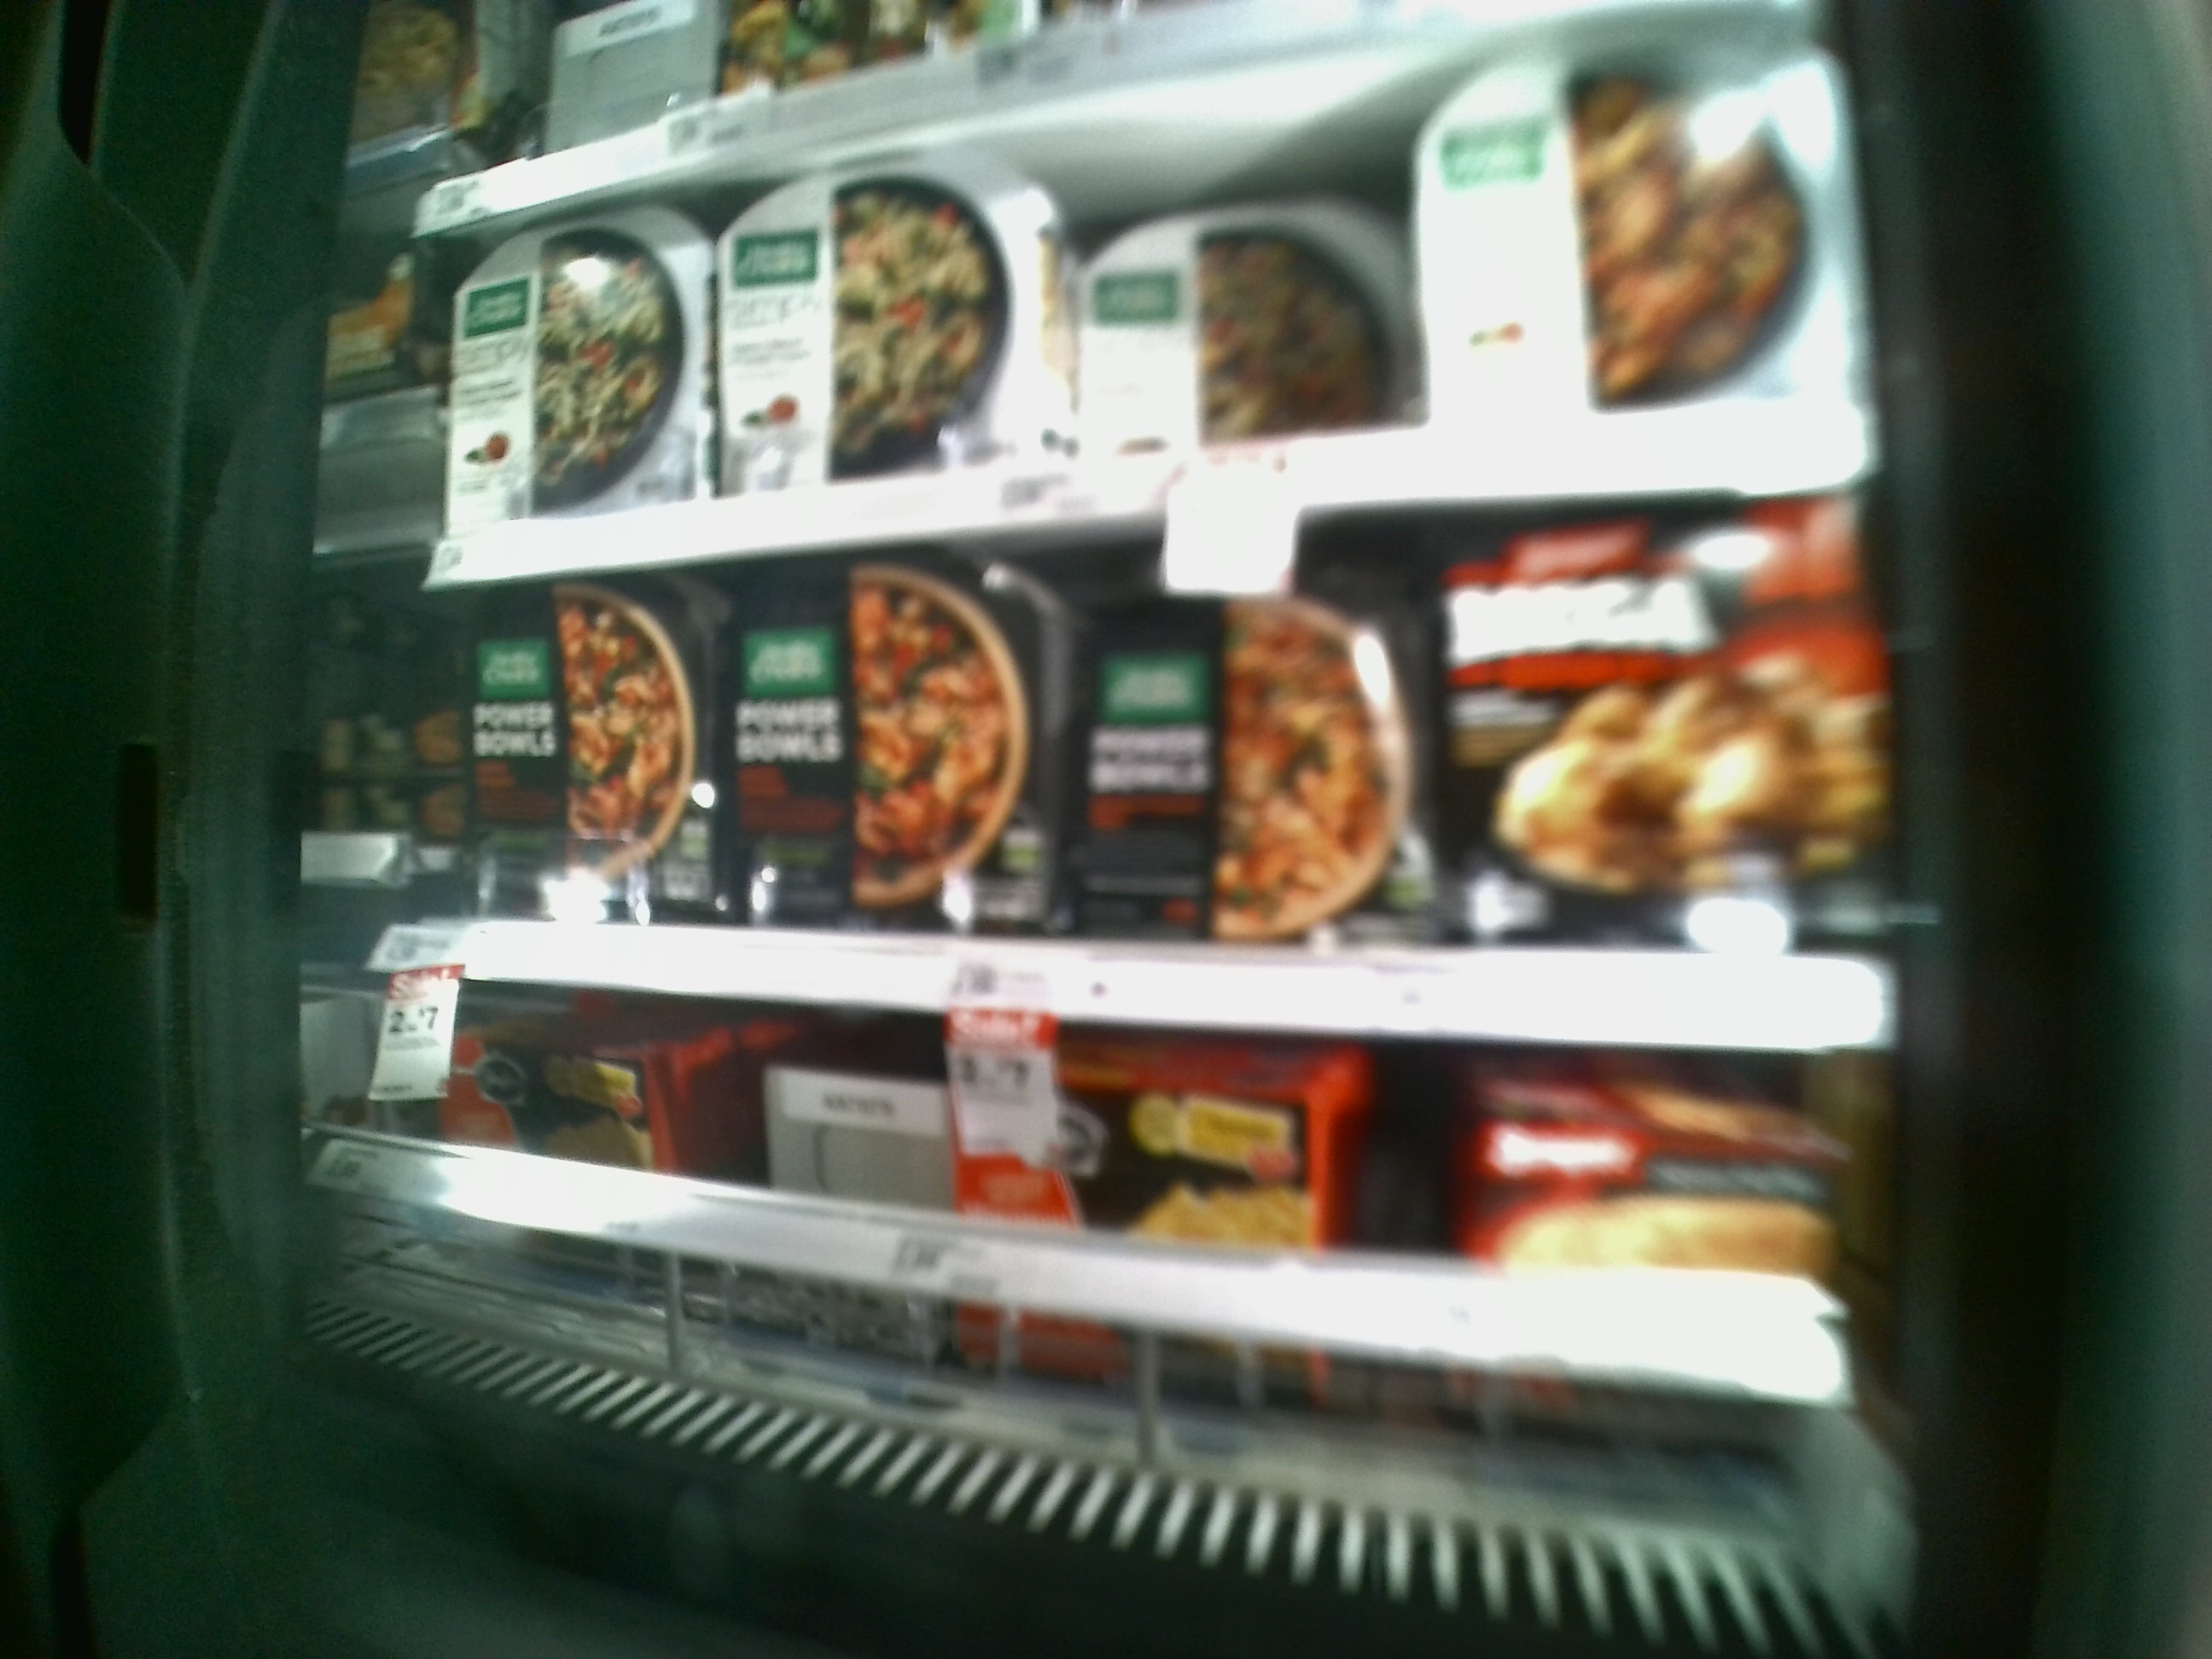shelf: (421, 481, 1890, 1053)
